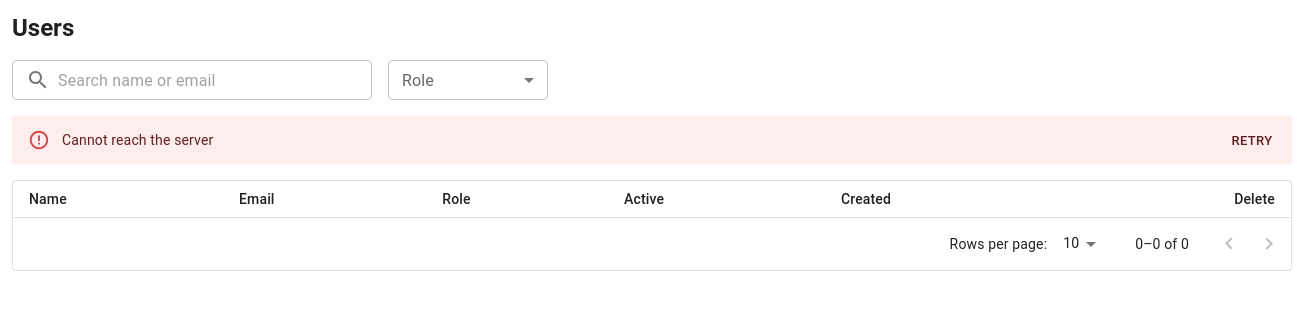
Test: shows a load error with retry
Expected: the text "Cannot reach the server" is shown, 62,132 -> 213,148
Step 1. Click the button "Retry" → (1252, 141), box 1220,126 -> 1284,157
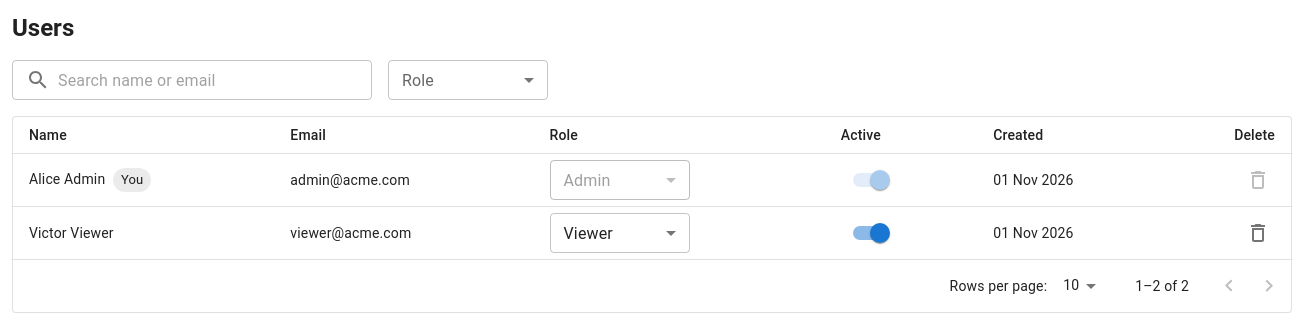
Expected: the text "Victor Viewer" is shown, 13,206 -> 274,260
